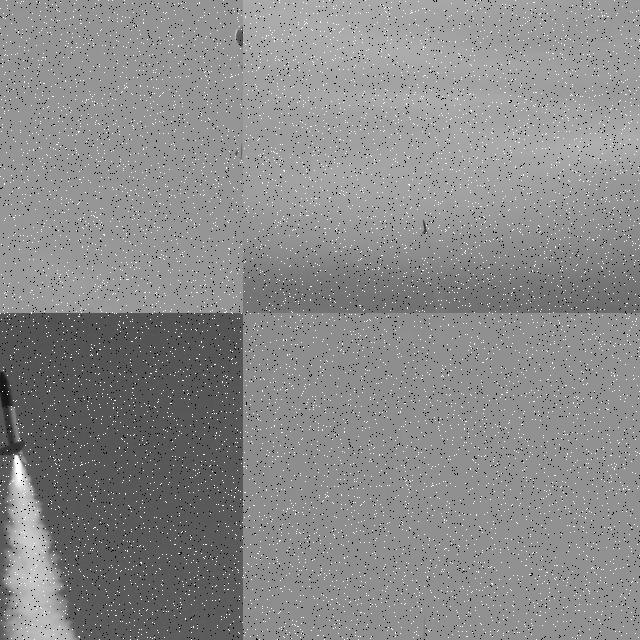Rocket: (0, 368, 29, 464), (421, 616, 427, 640), (422, 219, 429, 236)
